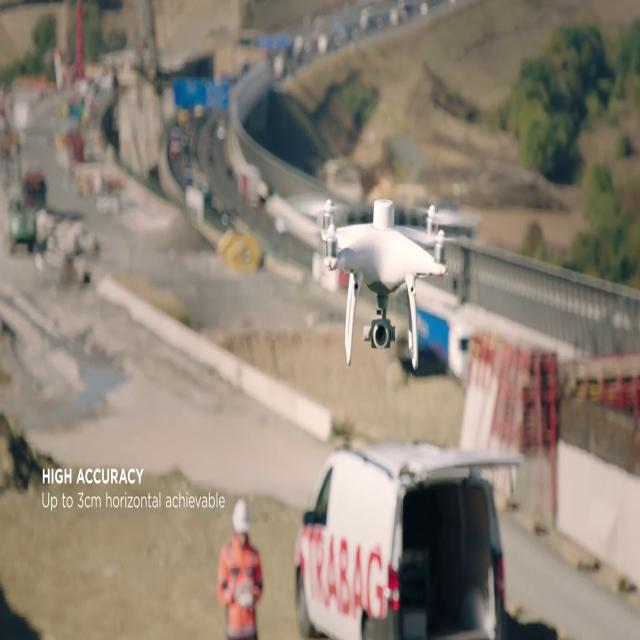drone: (288, 195, 481, 367)
